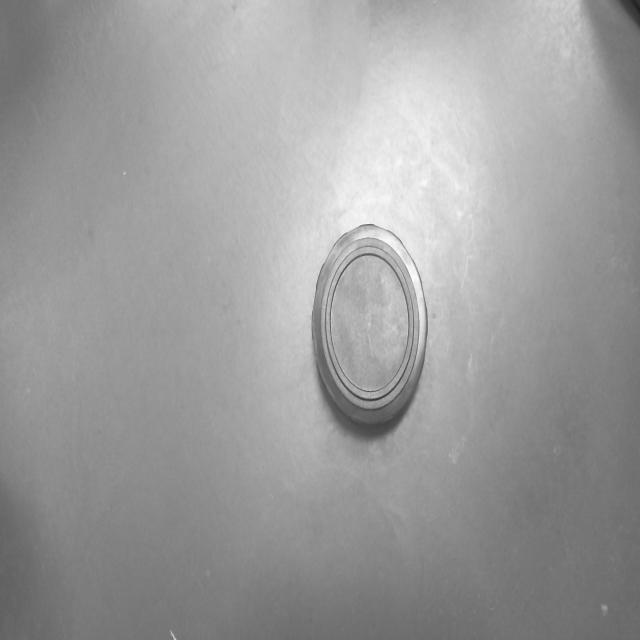cover: (307, 206, 449, 444)
